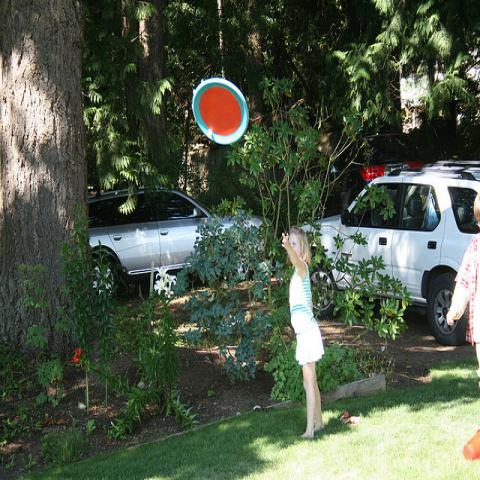car: (300, 158, 479, 348), (87, 186, 275, 298)
